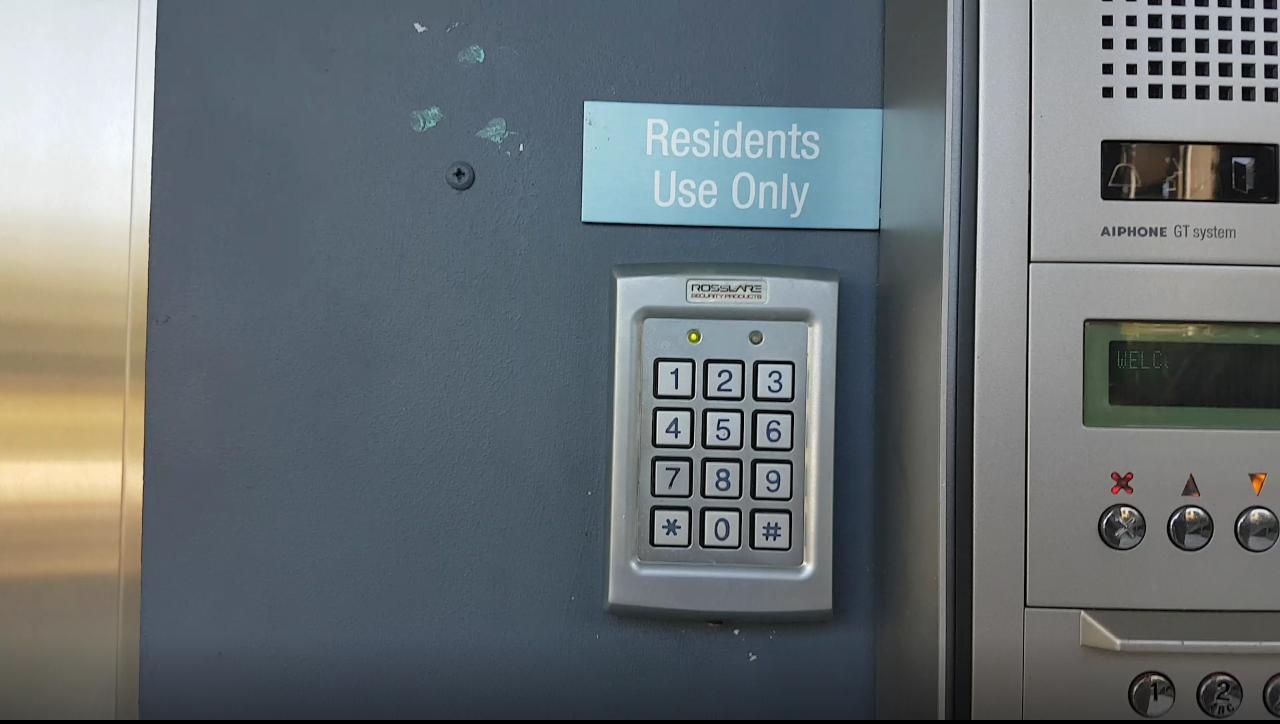0: (695, 503, 745, 551)
1: (1123, 666, 1181, 723), (650, 353, 698, 402)
2: (1192, 666, 1247, 724), (699, 355, 749, 403)
3: (748, 356, 798, 404)
4: (649, 402, 699, 450)
5: (697, 404, 747, 452)
6: (747, 405, 797, 453)
7: (647, 452, 697, 500)
8: (697, 453, 747, 501)
9: (746, 455, 796, 503)
empty: (1163, 500, 1218, 554), (1230, 501, 1280, 554)
s: (646, 501, 696, 549)
stop: (1095, 499, 1150, 553)
unknown: (745, 505, 795, 553)
